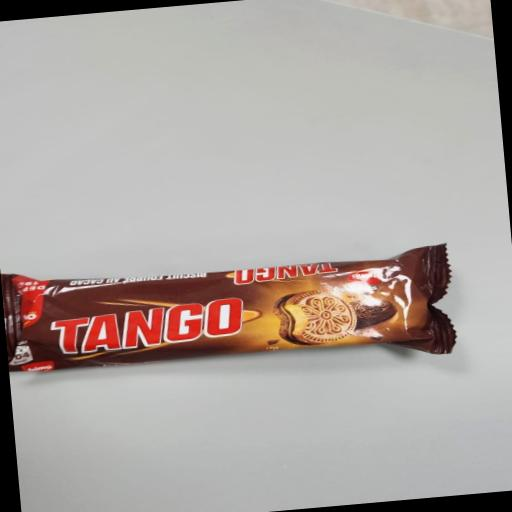tango: (0, 181, 503, 443)
